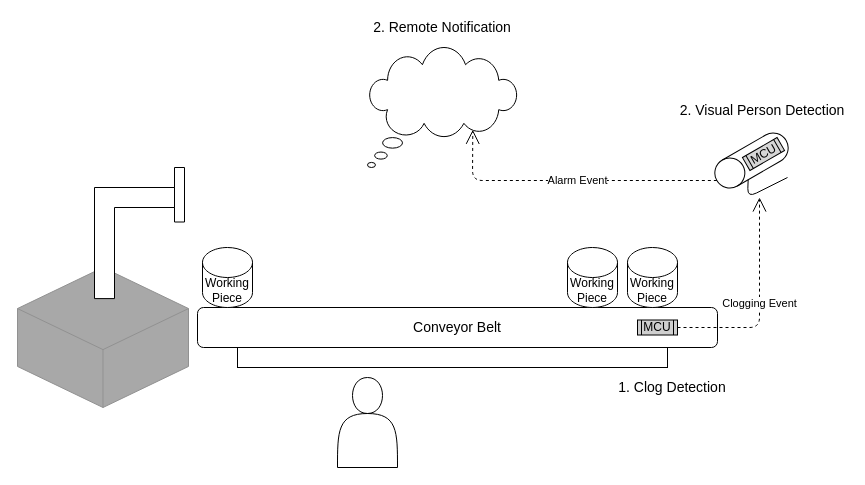
The diagram is 865 pixels wide and 485 high, and some of its shapes have lost their labels. The shapes that lost their labels are listed below. From the top down, each one's centre as x and y in pixels, then its label:
the point at 442,107: Remote Center
the point at 134,242: Gripper
the point at 367,422: Worker
